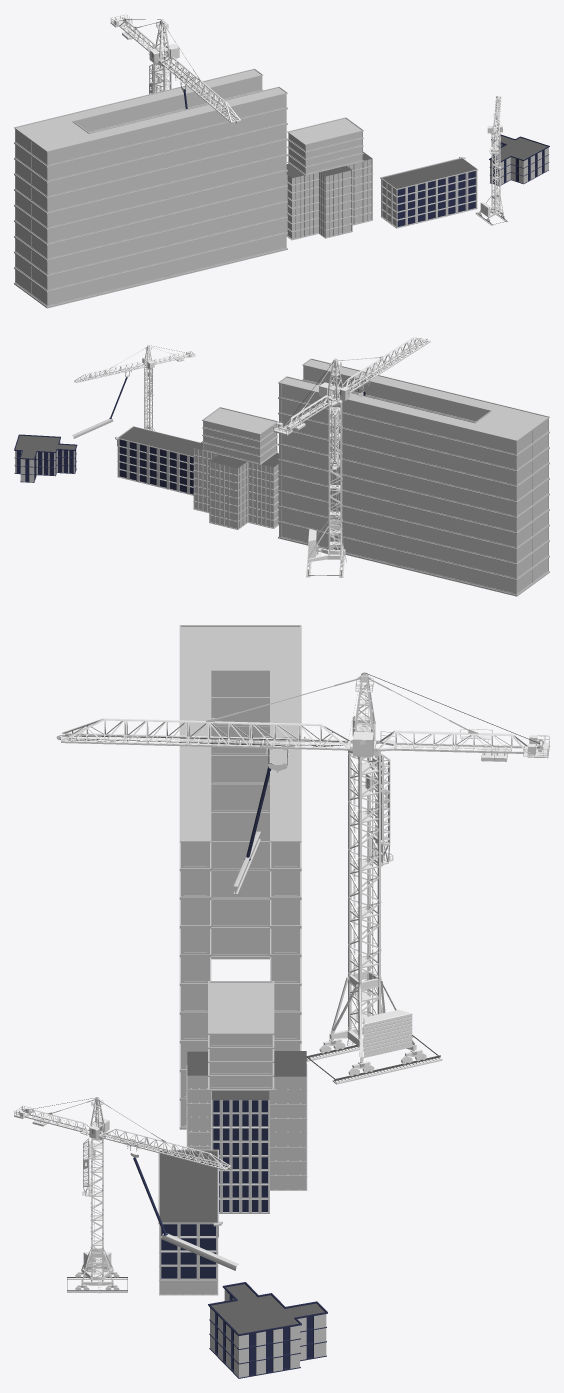
The model's file is City.glb.
3 views of the same model, one above another, from view 1: azimuth 30°, elevation 25°; view 2: azimuth 150°, elevation 25°; view 3: azimuth 270°, elevation 25° (orthographic). The views are drawn at different scales.
Visible parts, largest first — view 1: building_004-col, building_003.001-col, building_002-col, building_006-col, turnable_part.001-col, building_003-col, turnable_part-col, tower_5.001-col, base-col; view 2: building_004-col, building_003.001-col, building_002-col, building_006-col, turnable_part.001-col, building_003-col, base.001-col, turnable_part-col, height_setting_mast.001-col; view 3: building_004-col, building_003.001-col, turnable_part.001-col, building_003-col, building_002-col, building_006-col, base.001-col, turnable_part-col, tower_5.001-col, tower_2.001-col, tower_3.001-col, tower_4.001-col (+3 smaller).
Part boxes in pixels (x1,y1,x2,y2): building_004-col: [14, 68, 287, 308]; building_003.001-col: [286, 151, 373, 240]; building_002-col: [380, 156, 478, 228]; building_006-col: [287, 117, 363, 175]; turnable_part.001-col: [110, 14, 241, 123]; building_003-col: [489, 134, 549, 186]; turnable_part-col: [487, 96, 502, 154]; tower_5.001-col: [151, 59, 171, 91]; base-col: [478, 194, 505, 222]; building_004-col: [278, 358, 549, 596]; building_003.001-col: [193, 441, 278, 529]; building_002-col: [115, 426, 200, 495]; building_006-col: [202, 407, 278, 464]; turnable_part.001-col: [272, 337, 430, 435]; building_003-col: [14, 434, 77, 482]; base.001-col: [307, 519, 346, 571]; turnable_part-col: [74, 345, 195, 382]; height_setting_mast.001-col: [330, 407, 340, 469]; building_004-col: [179, 625, 301, 1129]; building_003.001-col: [186, 1051, 307, 1213]; turnable_part.001-col: [56, 672, 549, 772]; building_003-col: [208, 1282, 327, 1378]; building_002-col: [158, 1149, 222, 1295]; building_006-col: [208, 981, 274, 1090]; base.001-col: [319, 970, 426, 1076]; turnable_part-col: [14, 1097, 230, 1170]; tower_5.001-col: [348, 746, 385, 811]; tower_2.001-col: [348, 894, 381, 954]; tower_3.001-col: [348, 846, 381, 906]; tower_4.001-col: [348, 798, 381, 858].
Size of what is drawn, in the model's own units: 439 by 171 by 213.
